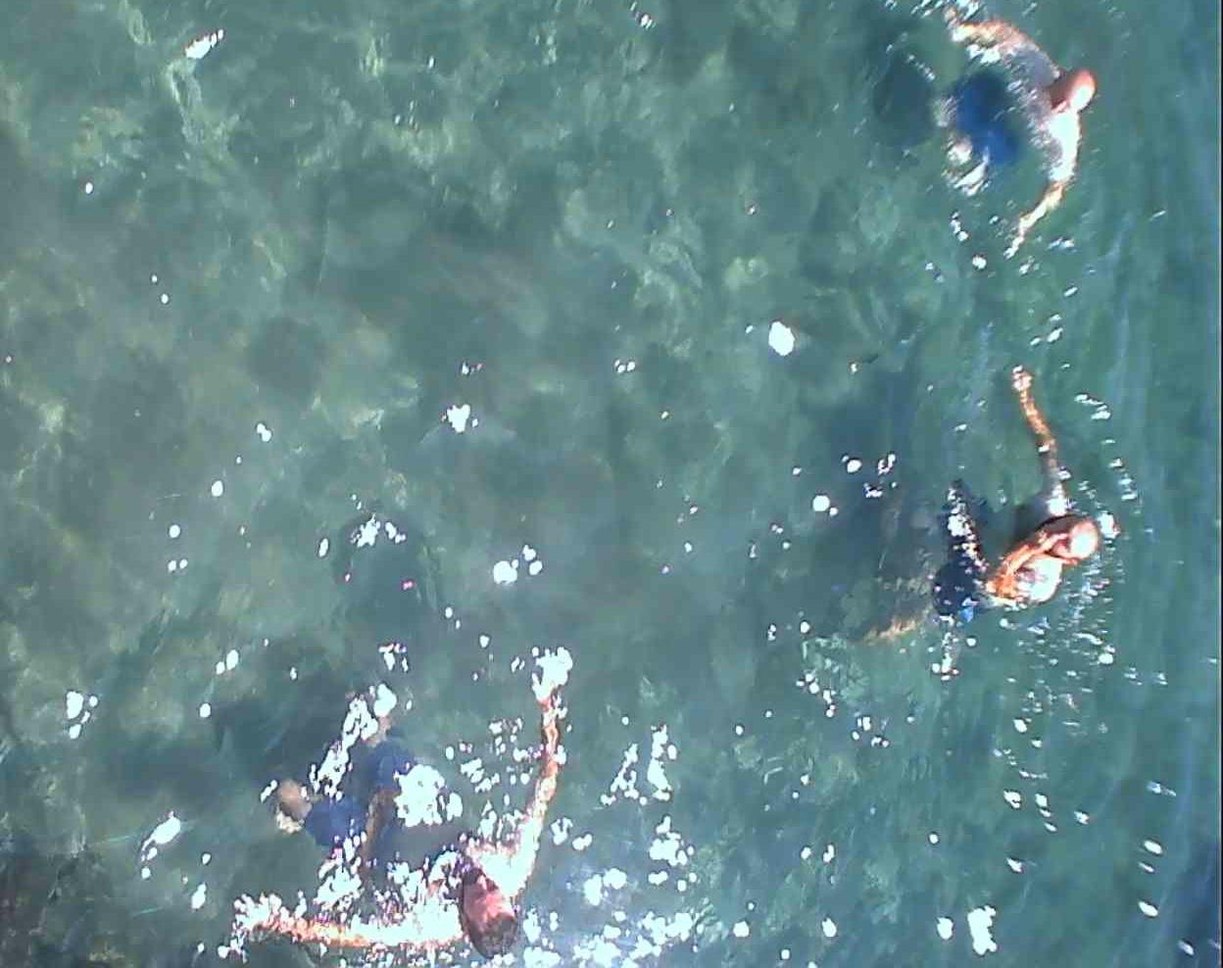human: (213, 742, 569, 951), (892, 346, 1110, 685), (905, 0, 1120, 229)
